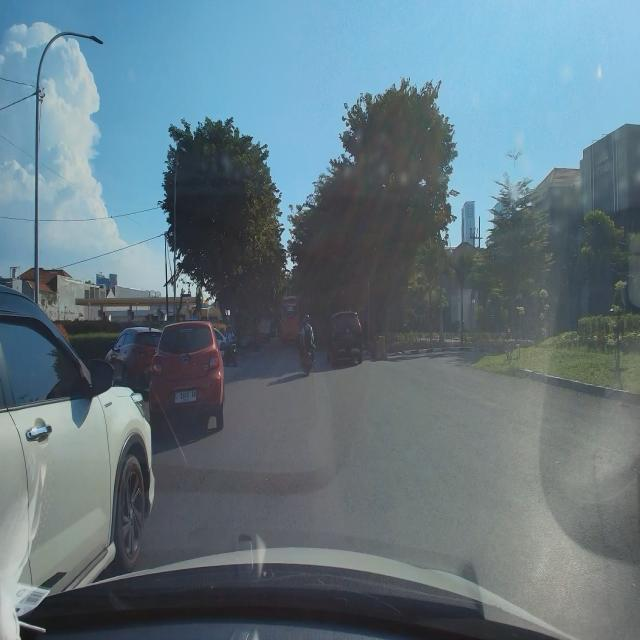car: (148, 318, 227, 435), (324, 308, 364, 368)
license-plate: (174, 389, 197, 404)
